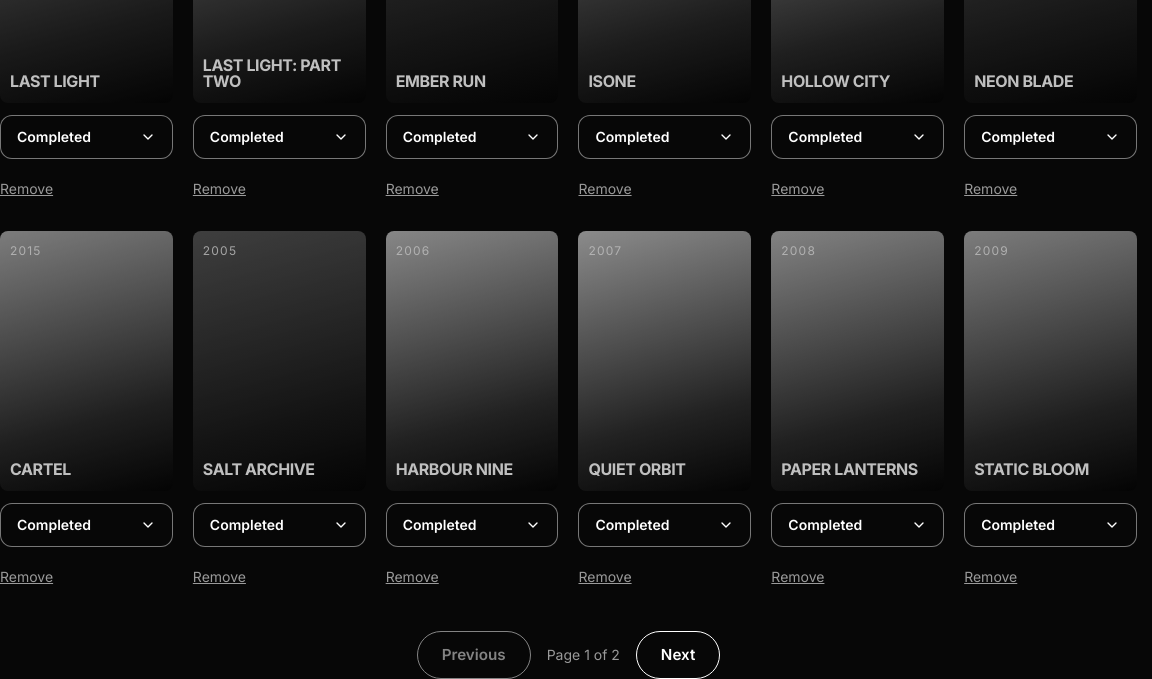
Scenario: MyLists regressions from the final review › removing the last entry on page 2 steps back to page 1, not an empty state
The image size is (1152, 679).
(page scrolled)
Click the button "Next".
click(678, 655)  # box [636, 630, 720, 678]
(page scrolled)
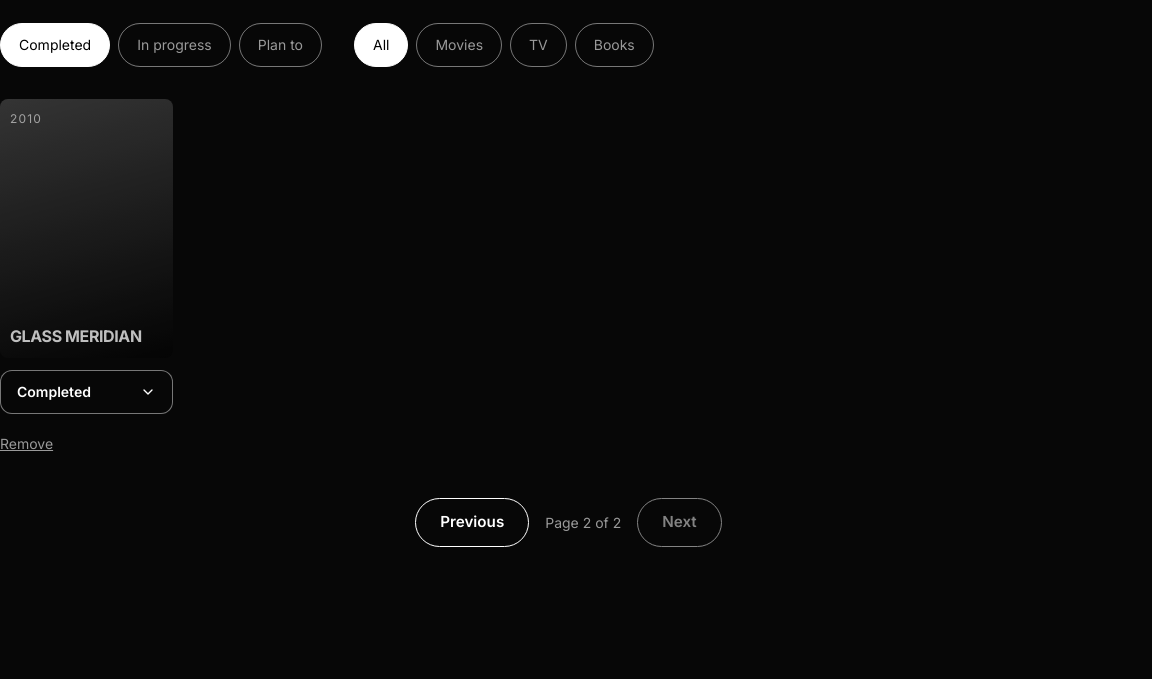
Result: the number of dropdowns is 1 at [0, 370, 173, 414]
Click the button "Remove".
click(86, 444)  # box [0, 422, 173, 466]
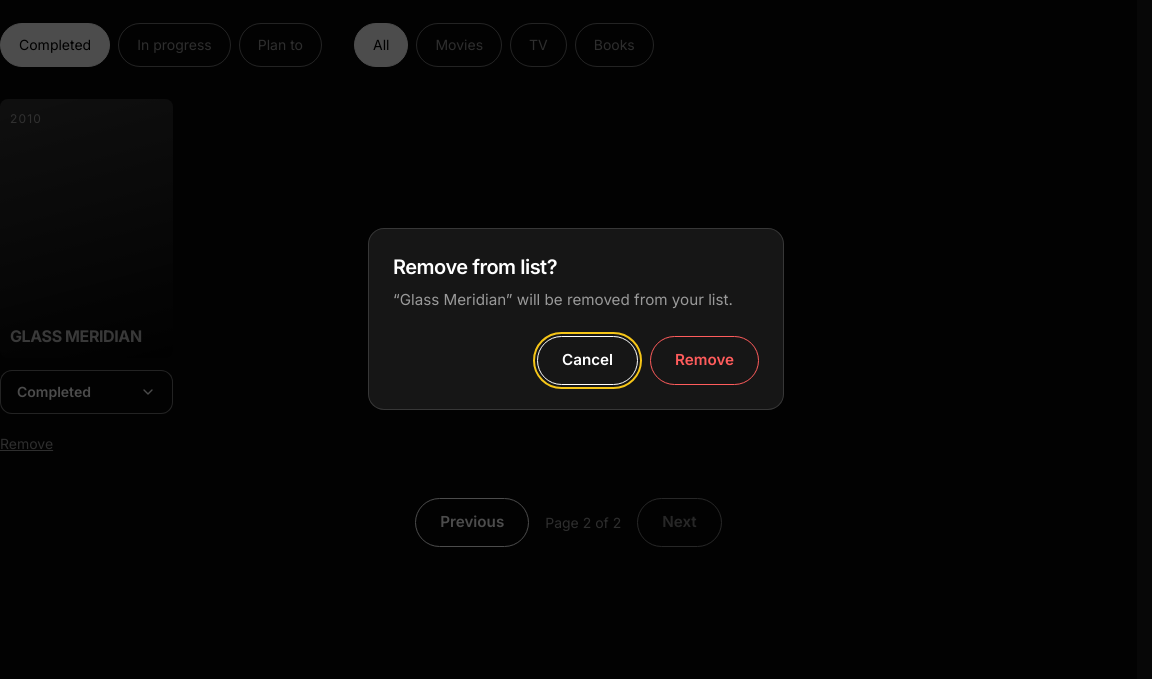
Click the button "Remove".
click(704, 360)  # box [650, 336, 759, 385]
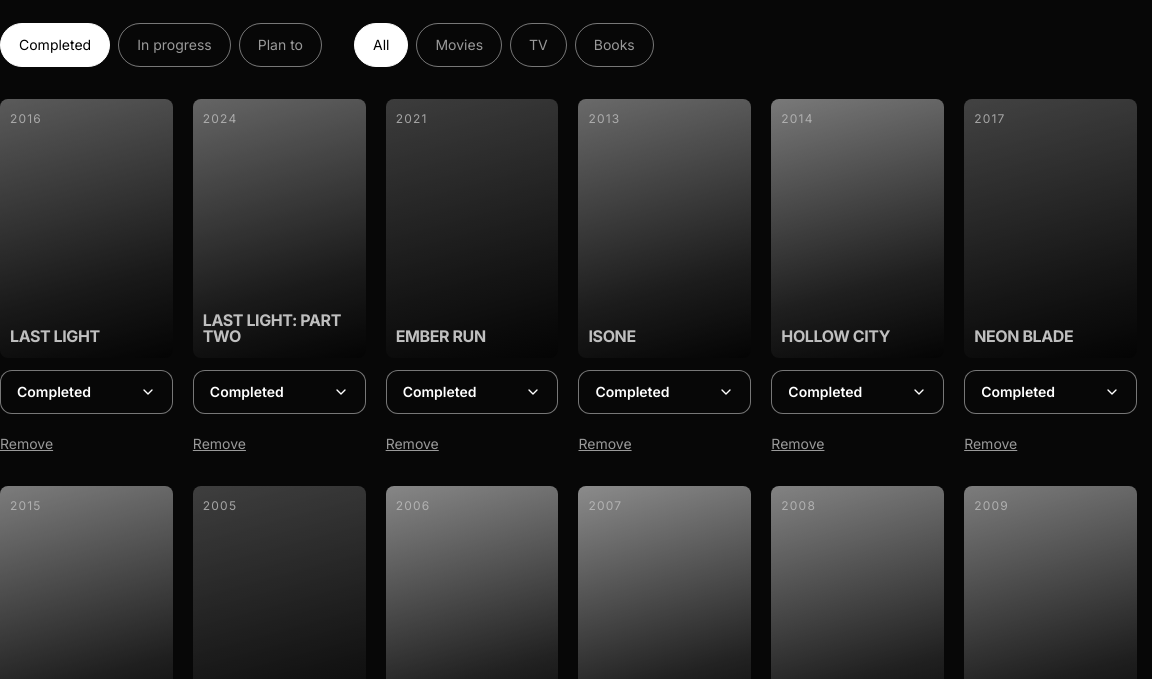
Result: the number of dropdowns is 12
